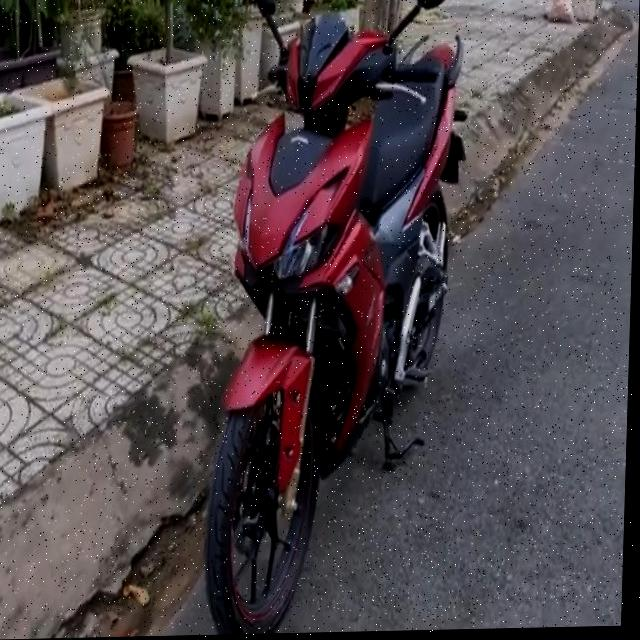motorcycle: (202, 0, 481, 627)
